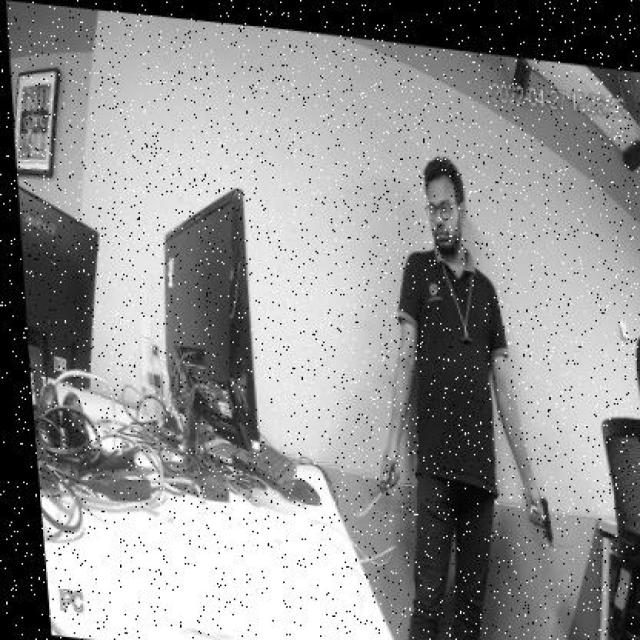weapon: (524, 495, 556, 551)
